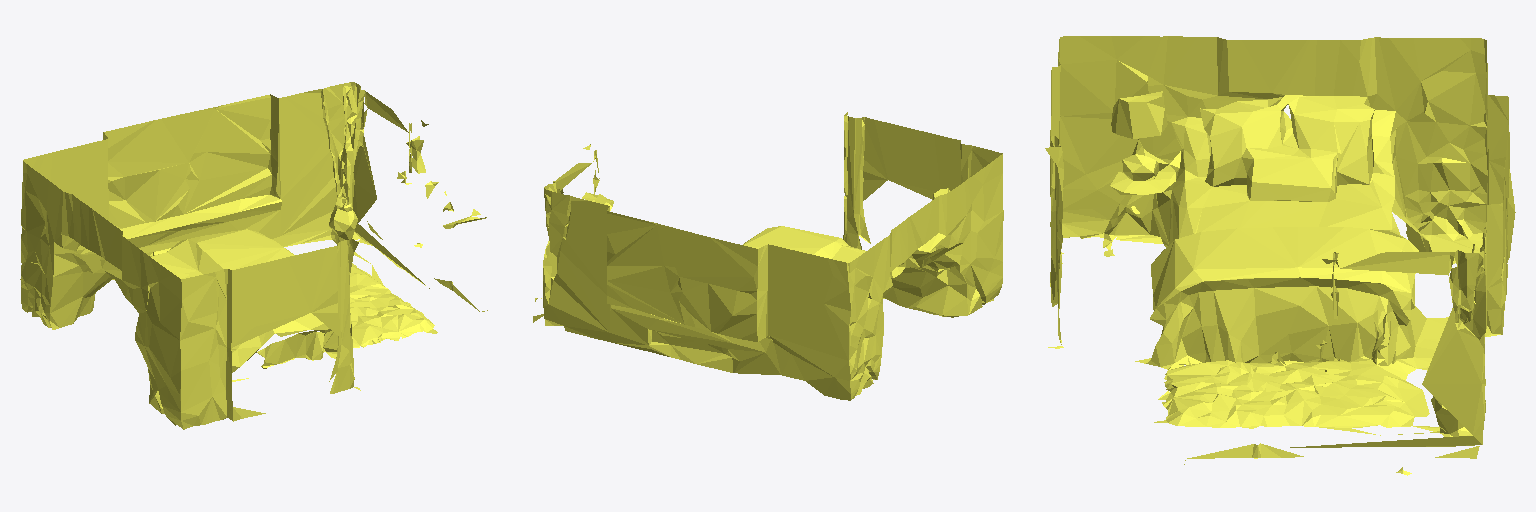
URDF robot description (env.urdf):
<?xml version="0.0" ?>
<robot name="env.urdf">
  <link name="baseLink">
    <contact>
      <lateral_friction value="1.0"/>
      <rolling_friction value="0.0"/>
      <contact_cfm value="0.0"/>
      <contact_erp value="1.0"/>
    </contact>
    <inertial>
      <origin rpy="0 0 0" xyz="0.0 0.02 0.0"/>
       <mass value="0"/>
       <inertia ixx="1" ixy="0" ixz="0" iyy="1" iyz="0" izz="1"/>
    </inertial>
    <visual>
      <origin rpy="0 0 0" xyz="0 0 0"/>
      <geometry>
        <mesh filename="bedroom1.obj" scale="1 1 1"/>
      </geometry>
       <material name="yellow">
        <color rgba="1 1 0.4 1"/>
      </material>
    </visual>
    <collision>
      <origin rpy="0 0 0" xyz="0 0 0"/>
      <geometry>
	 	<mesh filename="bedroom1.obj" scale="1 1 1"/>
      </geometry>
    </collision>
  </link>
</robot>

--- Facts derived from the render (not from the file) ---
The picture shows the robot from 3 angles, left to right: view 1: azimuth 30°, elevation 25°; view 2: azimuth 150°, elevation 25°; view 3: azimuth 270°, elevation 25°; orthographic projection.
Model env.urdf with 1 links and 0 joints (none), rooted at baseLink, posed all joints at 0.
Visible links, largest first — view 1: baseLink; view 2: baseLink; view 3: baseLink.
Boxes of the visible links, bbox=[...] form: baseLink: bbox=[20, 82, 487, 429]; baseLink: bbox=[533, 112, 1003, 400]; baseLink: bbox=[1045, 36, 1515, 475].
Size in the robot's own frame: 3.98 by 3.24 by 1.53 metres.
1 mesh visuals loaded from 1 distinct referenced files (1 OBJ).